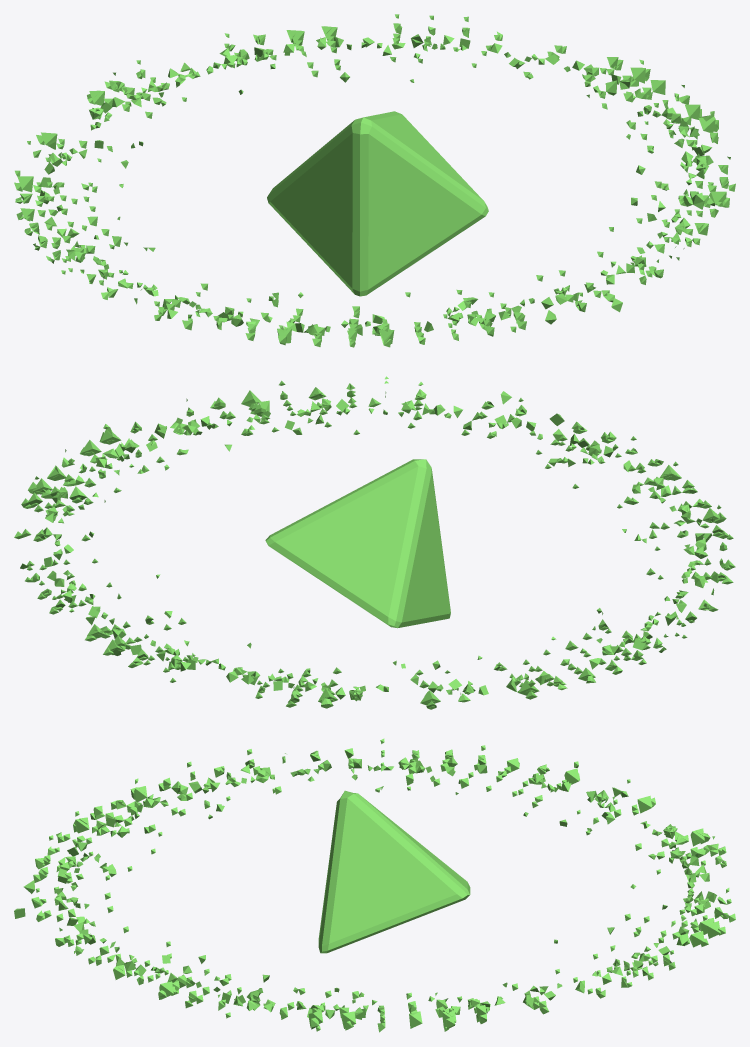
File: zongziStar.glb
3 renders of one model, top to bottom at view 1: azimuth 30°, elevation 25°; view 2: azimuth 150°, elevation 25°; view 3: azimuth 270°, elevation 25°, orthographic. The views are drawn at different scales.
Parts seen in each view (by area): view 1: asteroids, zongziStar; view 2: asteroids, zongziStar; view 3: asteroids, zongziStar.
Boxes of the visible parts, x1,y1,x2,y2 form: asteroids: [14, 14, 735, 347]; zongziStar: [267, 111, 488, 296]; asteroids: [14, 376, 735, 709]; zongziStar: [265, 459, 450, 628]; asteroids: [14, 738, 735, 1032]; zongziStar: [318, 790, 470, 953].
Bounding box in the file's own units: 18.45 × 4.59 × 18.91.
